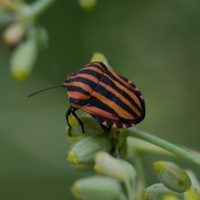insect: (63, 62, 144, 131)
